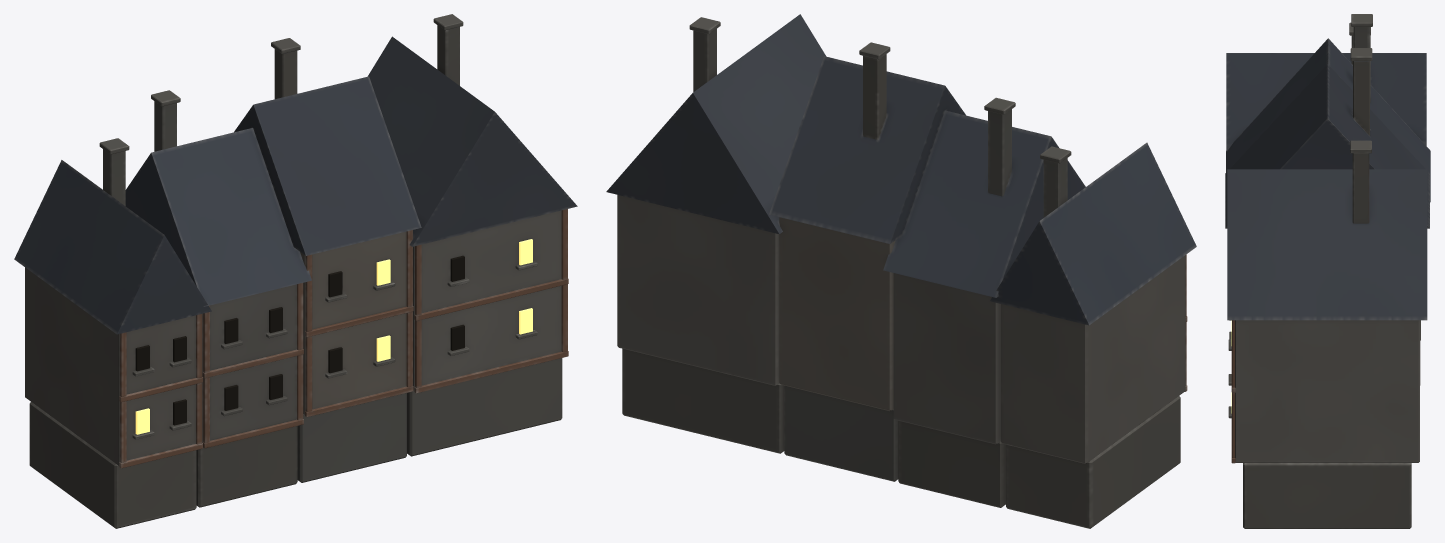
The model's file is gallows_skyline_houses_b.glb.
3 views of the same model, side by side, from view 1: azimuth 30°, elevation 25°; view 2: azimuth 150°, elevation 25°; view 3: azimuth 270°, elevation 25° (orthographic). The views are drawn at different scales.
Parts seen in each view (by area): view 1: gallows_skyline_houses_b, gallows_skyline_houses_b_glow; view 2: gallows_skyline_houses_b; view 3: gallows_skyline_houses_b.
Part boxes in pixels (box(x1,y1,x2,y2)): gallows_skyline_houses_b: box(14, 14, 577, 528); gallows_skyline_houses_b_glow: box(135, 239, 532, 434); gallows_skyline_houses_b: box(606, 14, 1196, 528); gallows_skyline_houses_b: box(1225, 14, 1430, 528).
Bounding box in the file's own units: 21.5 × 17.14 × 8.53.
Materials: 2 (1 with a texture image).
